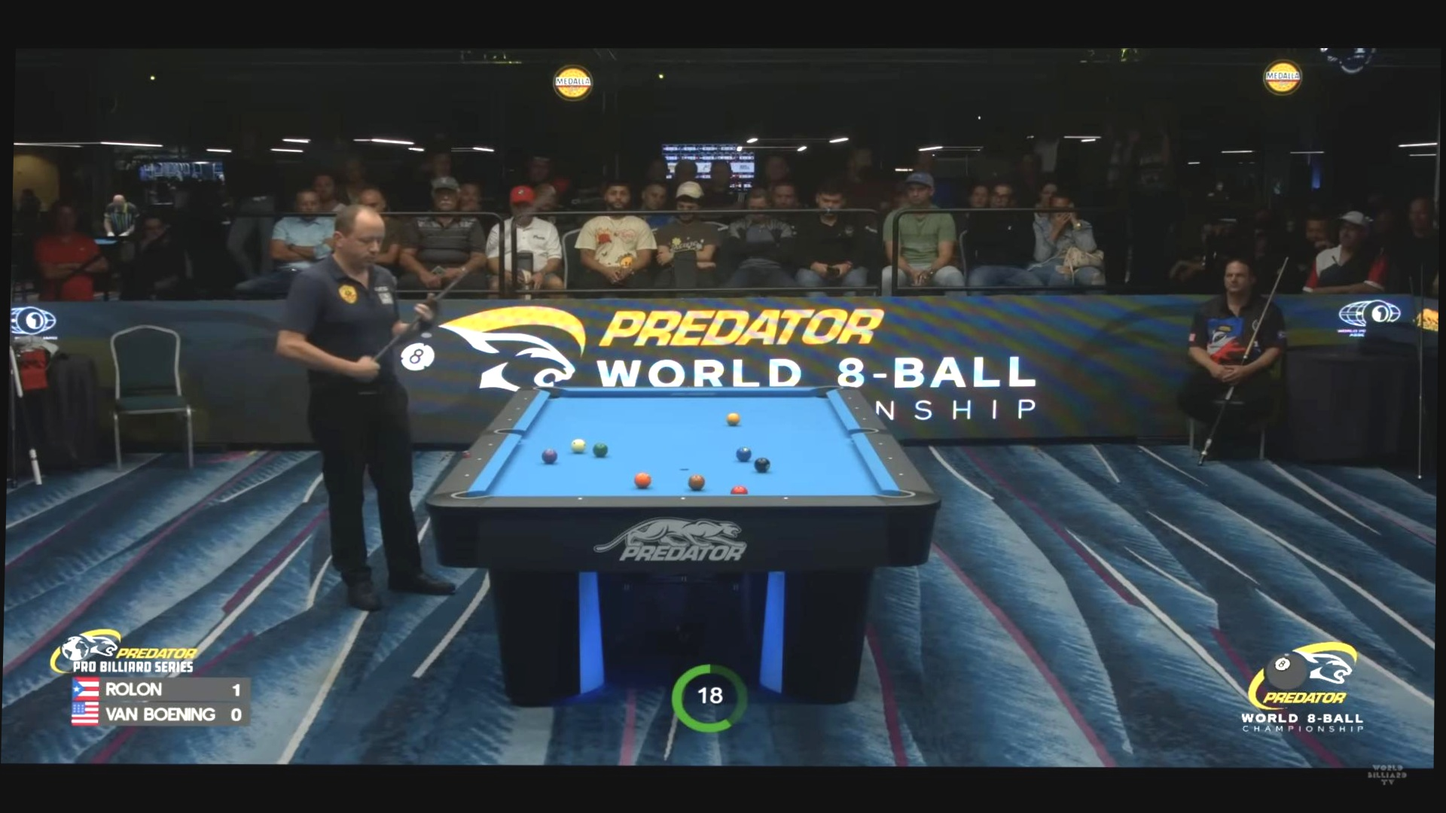Black: (754, 457, 770, 472)
Cue: (571, 439, 586, 453)
Solid: (887, 455, 894, 461), (877, 441, 884, 447), (853, 405, 860, 411), (847, 395, 854, 401), (464, 472, 471, 478), (861, 416, 867, 422), (476, 457, 483, 462), (487, 442, 494, 447), (514, 406, 521, 411), (783, 496, 789, 501), (507, 416, 513, 421), (522, 396, 528, 401), (617, 384, 623, 389), (899, 472, 904, 477), (680, 496, 686, 500), (578, 497, 583, 501), (687, 385, 690, 388)
Striped: (634, 473, 652, 488), (688, 475, 705, 490), (541, 449, 558, 464), (736, 447, 752, 461), (593, 443, 608, 457), (726, 413, 740, 425), (730, 485, 748, 494)
